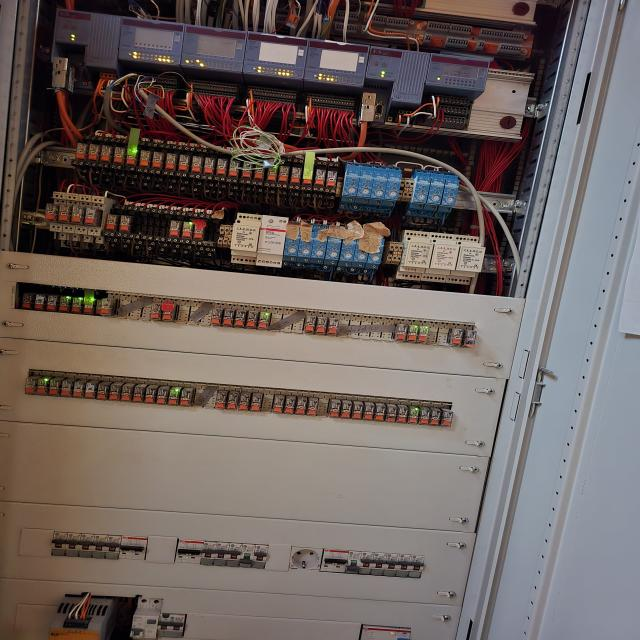Dimmer: (445, 234, 486, 285), (421, 232, 460, 282), (396, 230, 434, 281), (255, 215, 289, 268), (230, 213, 263, 265), (284, 225, 302, 258), (343, 165, 361, 197), (325, 229, 343, 260), (357, 167, 375, 198), (370, 168, 388, 199), (413, 172, 431, 203), (298, 226, 315, 258), (311, 228, 329, 258), (384, 170, 402, 200), (427, 173, 444, 204), (442, 175, 459, 206), (340, 233, 358, 261), (367, 236, 385, 264), (354, 234, 371, 262)
FI: (362, 624, 411, 640)
FI_Sicherungskombi: (131, 597, 164, 640)
Leitungsschutzschalter: (104, 535, 123, 559), (91, 534, 109, 559), (225, 542, 243, 567), (238, 543, 256, 568), (168, 613, 186, 638), (51, 532, 69, 556), (200, 541, 218, 565), (78, 533, 95, 558), (213, 541, 230, 566), (252, 544, 269, 569), (65, 533, 82, 557), (131, 536, 148, 560), (187, 540, 204, 564), (370, 552, 387, 576), (320, 549, 337, 572), (332, 550, 349, 573), (345, 551, 362, 574), (383, 553, 400, 576), (395, 554, 412, 577), (408, 555, 425, 578), (119, 535, 135, 559), (175, 539, 191, 563), (358, 552, 374, 575), (157, 613, 172, 637)
Relais: (85, 208, 98, 225), (88, 144, 100, 162), (100, 144, 112, 162), (162, 303, 174, 321), (464, 330, 476, 348), (191, 155, 202, 174), (76, 142, 88, 159), (139, 150, 151, 167), (165, 153, 177, 170), (314, 169, 326, 186), (120, 215, 132, 232), (101, 298, 113, 315), (216, 158, 227, 176), (223, 308, 234, 326), (304, 315, 315, 333), (451, 328, 462, 346), (126, 149, 138, 165), (71, 206, 83, 222), (234, 310, 246, 326), (246, 312, 258, 328), (96, 384, 108, 400), (396, 323, 406, 342), (408, 324, 418, 343), (114, 146, 125, 163), (203, 157, 214, 174), (278, 165, 289, 182), (106, 214, 117, 231), (316, 317, 327, 334), (179, 154, 189, 172), (254, 162, 264, 180), (291, 166, 301, 184), (46, 202, 56, 220), (183, 221, 193, 239), (194, 222, 204, 240), (328, 318, 338, 336), (418, 326, 428, 344), (326, 171, 337, 187), (58, 204, 69, 220), (170, 221, 181, 237), (258, 313, 269, 329), (48, 379, 59, 395), (133, 387, 144, 403), (157, 388, 168, 404), (153, 152, 163, 169), (229, 160, 239, 177), (267, 164, 277, 181), (122, 385, 132, 402), (109, 385, 120, 400), (242, 162, 252, 178), (303, 169, 313, 185), (47, 294, 57, 310), (72, 297, 82, 313), (84, 298, 94, 314), (212, 309, 222, 325), (37, 378, 47, 394), (296, 399, 306, 415), (330, 402, 340, 418), (364, 404, 374, 420), (408, 408, 418, 424), (442, 411, 452, 427), (152, 303, 161, 320), (22, 293, 32, 308), (61, 381, 71, 396), (227, 394, 237, 409), (308, 400, 318, 415), (353, 404, 363, 419), (386, 407, 396, 422), (35, 294, 44, 310), (26, 378, 35, 394), (74, 382, 83, 398), (86, 383, 95, 399), (169, 390, 178, 406), (181, 390, 190, 406), (342, 402, 351, 418), (432, 410, 441, 426), (59, 297, 69, 311), (274, 398, 284, 412), (376, 406, 386, 420), (146, 388, 155, 403), (286, 398, 294, 414), (398, 408, 407, 422), (420, 410, 429, 424), (240, 395, 248, 410), (217, 394, 225, 408), (252, 396, 260, 410), (96, 300, 101, 314)
SPS-System -Steuerungskomponente-: (118, 16, 185, 66), (180, 24, 248, 73), (303, 38, 371, 87), (243, 31, 310, 80), (53, 7, 122, 48), (425, 53, 491, 92), (366, 45, 431, 83)
Verbinder: (385, 242, 403, 265), (397, 178, 414, 202), (217, 224, 233, 248)
